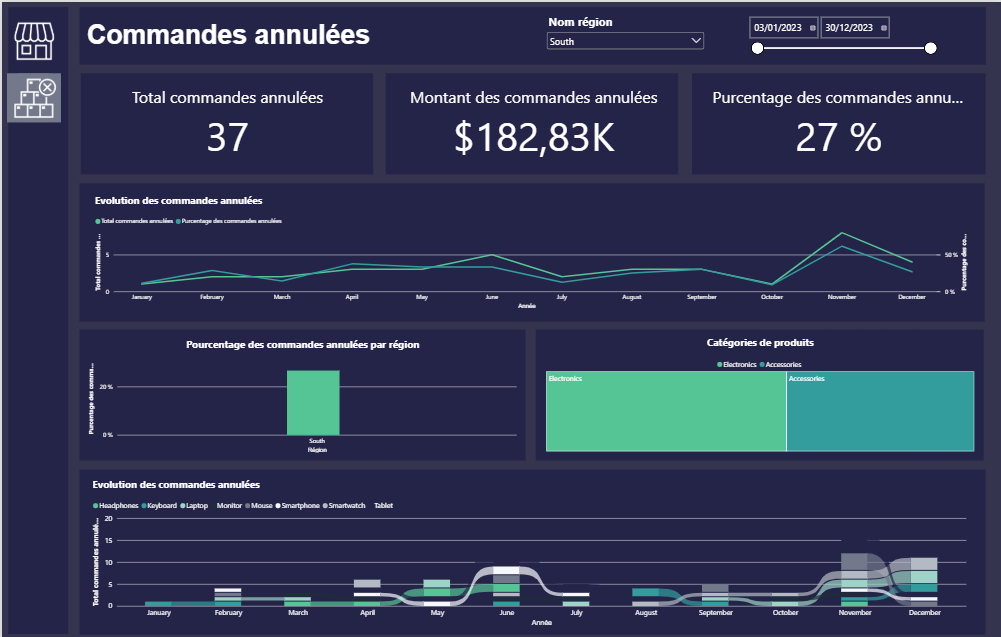

What the dashboard file says about the page in this screenshot:
{"tool":"powerbi","page":{"name":"Ventes annulées","canvas":[2000,1280],"ordinal":1},"visuals":[{"type":"shape","box":[12,10,120,1254],"z":0},{"type":"shape","box":[155.4,10.8,1812.8,115.7],"z":1000},{"type":"shape","box":[157.5,142.5,585,202.5],"z":2000},{"type":"shape","box":[154.4,362.5,1810.2,276.7],"z":3000},{"type":"shape","box":[154,654,892,262],"z":4000},{"type":"shape","box":[1068,654,896,262],"z":5000},{"type":"shape","box":[156,934,1812.3,330.3],"z":6000},{"type":"textbox","box":[170,35,830,67.5],"z":7000},{"type":"lineChart","title":"Evolution des commandes annulées","fields":{"Category":["ventes_fait.Date commande.Variation.Date Hierarchy.Year","ventes_fait.Date commande.Variation.Date Hierarchy.Quarter","ventes_fait.Date commande.Variation.Date Hierarchy.Month","ventes_fait.Date commande.Variation.Date Hierarchy.Day"],"Y2":["Mesures.Purcentage des commandes annulées"],"Y":["Mesures.Total commandes annulées"]},"box":[170,367.5,1780,262.5],"z":8000},{"type":"columnChart","title":"Pourcentage des commandes annulées par région","fields":{"Category":["Région_dim.Nom région"],"Y":["Mesures.Purcentage des commandes annulées"]},"box":[158,654,888,262],"z":9000},{"type":"slicer","fields":{"Values":["Région_dim.Nom région"]},"box":[1085,22.5,324,96],"z":10000},{"type":"slicer","fields":{"Values":["ventes_fait.Date commande"]},"box":[1487.5,25,386,82],"z":11000},{"type":"shape","box":[767.5,142.5,585,202.5],"z":12000},{"type":"shape","box":[1380,142.5,587.5,202.5],"z":13000},{"type":"cardVisual","fields":{"Data":["Mesures.Total commandes annulées"]},"box":[235,160,432.5,167.5],"z":14000},{"type":"cardVisual","fields":{"Data":["Mesures.Montant des commandes annulées"]},"box":[795,160,537.5,167.5],"z":15000},{"type":"cardVisual","fields":{"Data":["Mesures.Purcentage des commandes annulées"]},"box":[1405,160,537.5,167.5],"z":16000},{"type":"ribbonChart","title":"Evolution des commandes annulées","fields":{"Category":["ventes_fait.Date commande.Variation.Date Hierarchy.Year","ventes_fait.Date commande.Variation.Date Hierarchy.Quarter","ventes_fait.Date commande.Variation.Date Hierarchy.Month","ventes_fait.Date commande.Variation.Date Hierarchy.Day"],"Y":["Mesures.Total commandes annulées"],"Series":["Produits_dim.Nom produit"]},"box":[164,934,1780,330],"z":17000},{"type":"treemap","title":"Catégories de produits","fields":{"Group":["Produits_dim.Catégorie produit"],"Values":["Mesures.Total commandes annulées"]},"box":[1073.3,653.3,888,262],"z":18000},{"type":"image","box":[12,20,104,116],"z":19000},{"type":"shape","box":[10,142.5,108,98],"z":19500},{"type":"image","box":[15,142.5,102,100],"z":20000}]}

Visuals, with their boxes in screenshot pixels (x1, y1, x2, y2), scaled from the page's 2000x1280 canvas onto the 1001x637 screenshot:
shape: (6,5,66,629)
shape: (78,5,985,63)
shape: (79,71,372,172)
shape: (77,180,983,318)
shape: (77,325,524,456)
shape: (535,325,983,456)
shape: (78,465,985,629)
textbox: (85,17,500,51)
"Evolution des commandes annulées" lineChart: (85,183,976,314)
"Pourcentage des commandes annulées par région" columnChart: (79,325,524,456)
slicer - Région_dim.Nom région: (543,11,705,59)
slicer - ventes_fait.Date commande: (744,12,938,53)
shape: (384,71,677,172)
shape: (691,71,985,172)
cardVisual - Mesures.Total commandes annulées: (118,80,334,163)
cardVisual - Mesures.Montant des commandes annulées: (398,80,667,163)
cardVisual - Mesures.Purcentage des commandes annulées: (703,80,972,163)
"Evolution des commandes annulées" ribbonChart: (82,465,973,629)
"Catégories de produits" treemap: (537,325,982,456)
image: (6,10,58,68)
shape: (5,71,59,120)
image: (8,71,59,121)
